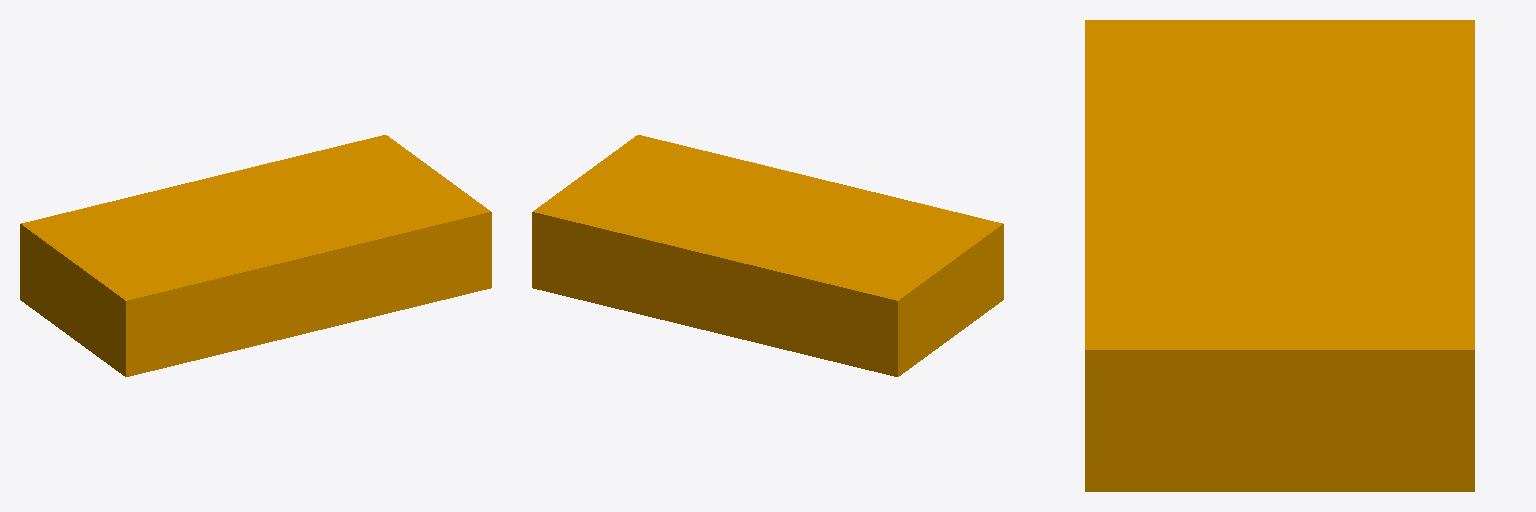
URDF robot description (chassis):
<?xml version="1.0"?>
<robot name="chassis">
  <link name="base_link">
    <visual>
      <geometry>
        <box size="1 0.5 0.2"/>
      </geometry>
    </visual>
  </link>
</robot>

--- Facts derived from the render (not from the file) ---
Views: 3 orthographic renders of the robot side by side, from view 1: azimuth 30°, elevation 25°; view 2: azimuth 150°, elevation 25°; view 3: azimuth 270°, elevation 25°.
Model chassis with 1 links and 0 joints (none), rooted at base_link, posed every joint at zero.
Links seen in each view (by area): view 1: base_link; view 2: base_link; view 3: base_link.
Link boxes in pixels (x1,y1,x2,y2): base_link: [20, 135, 491, 376]; base_link: [532, 135, 1003, 376]; base_link: [1085, 20, 1474, 491].
Bounding box of the posed robot: 1 × 0.5 × 0.2 m (x, y, z).
Geometry: primitives only (box / cylinder / sphere), no mesh files.